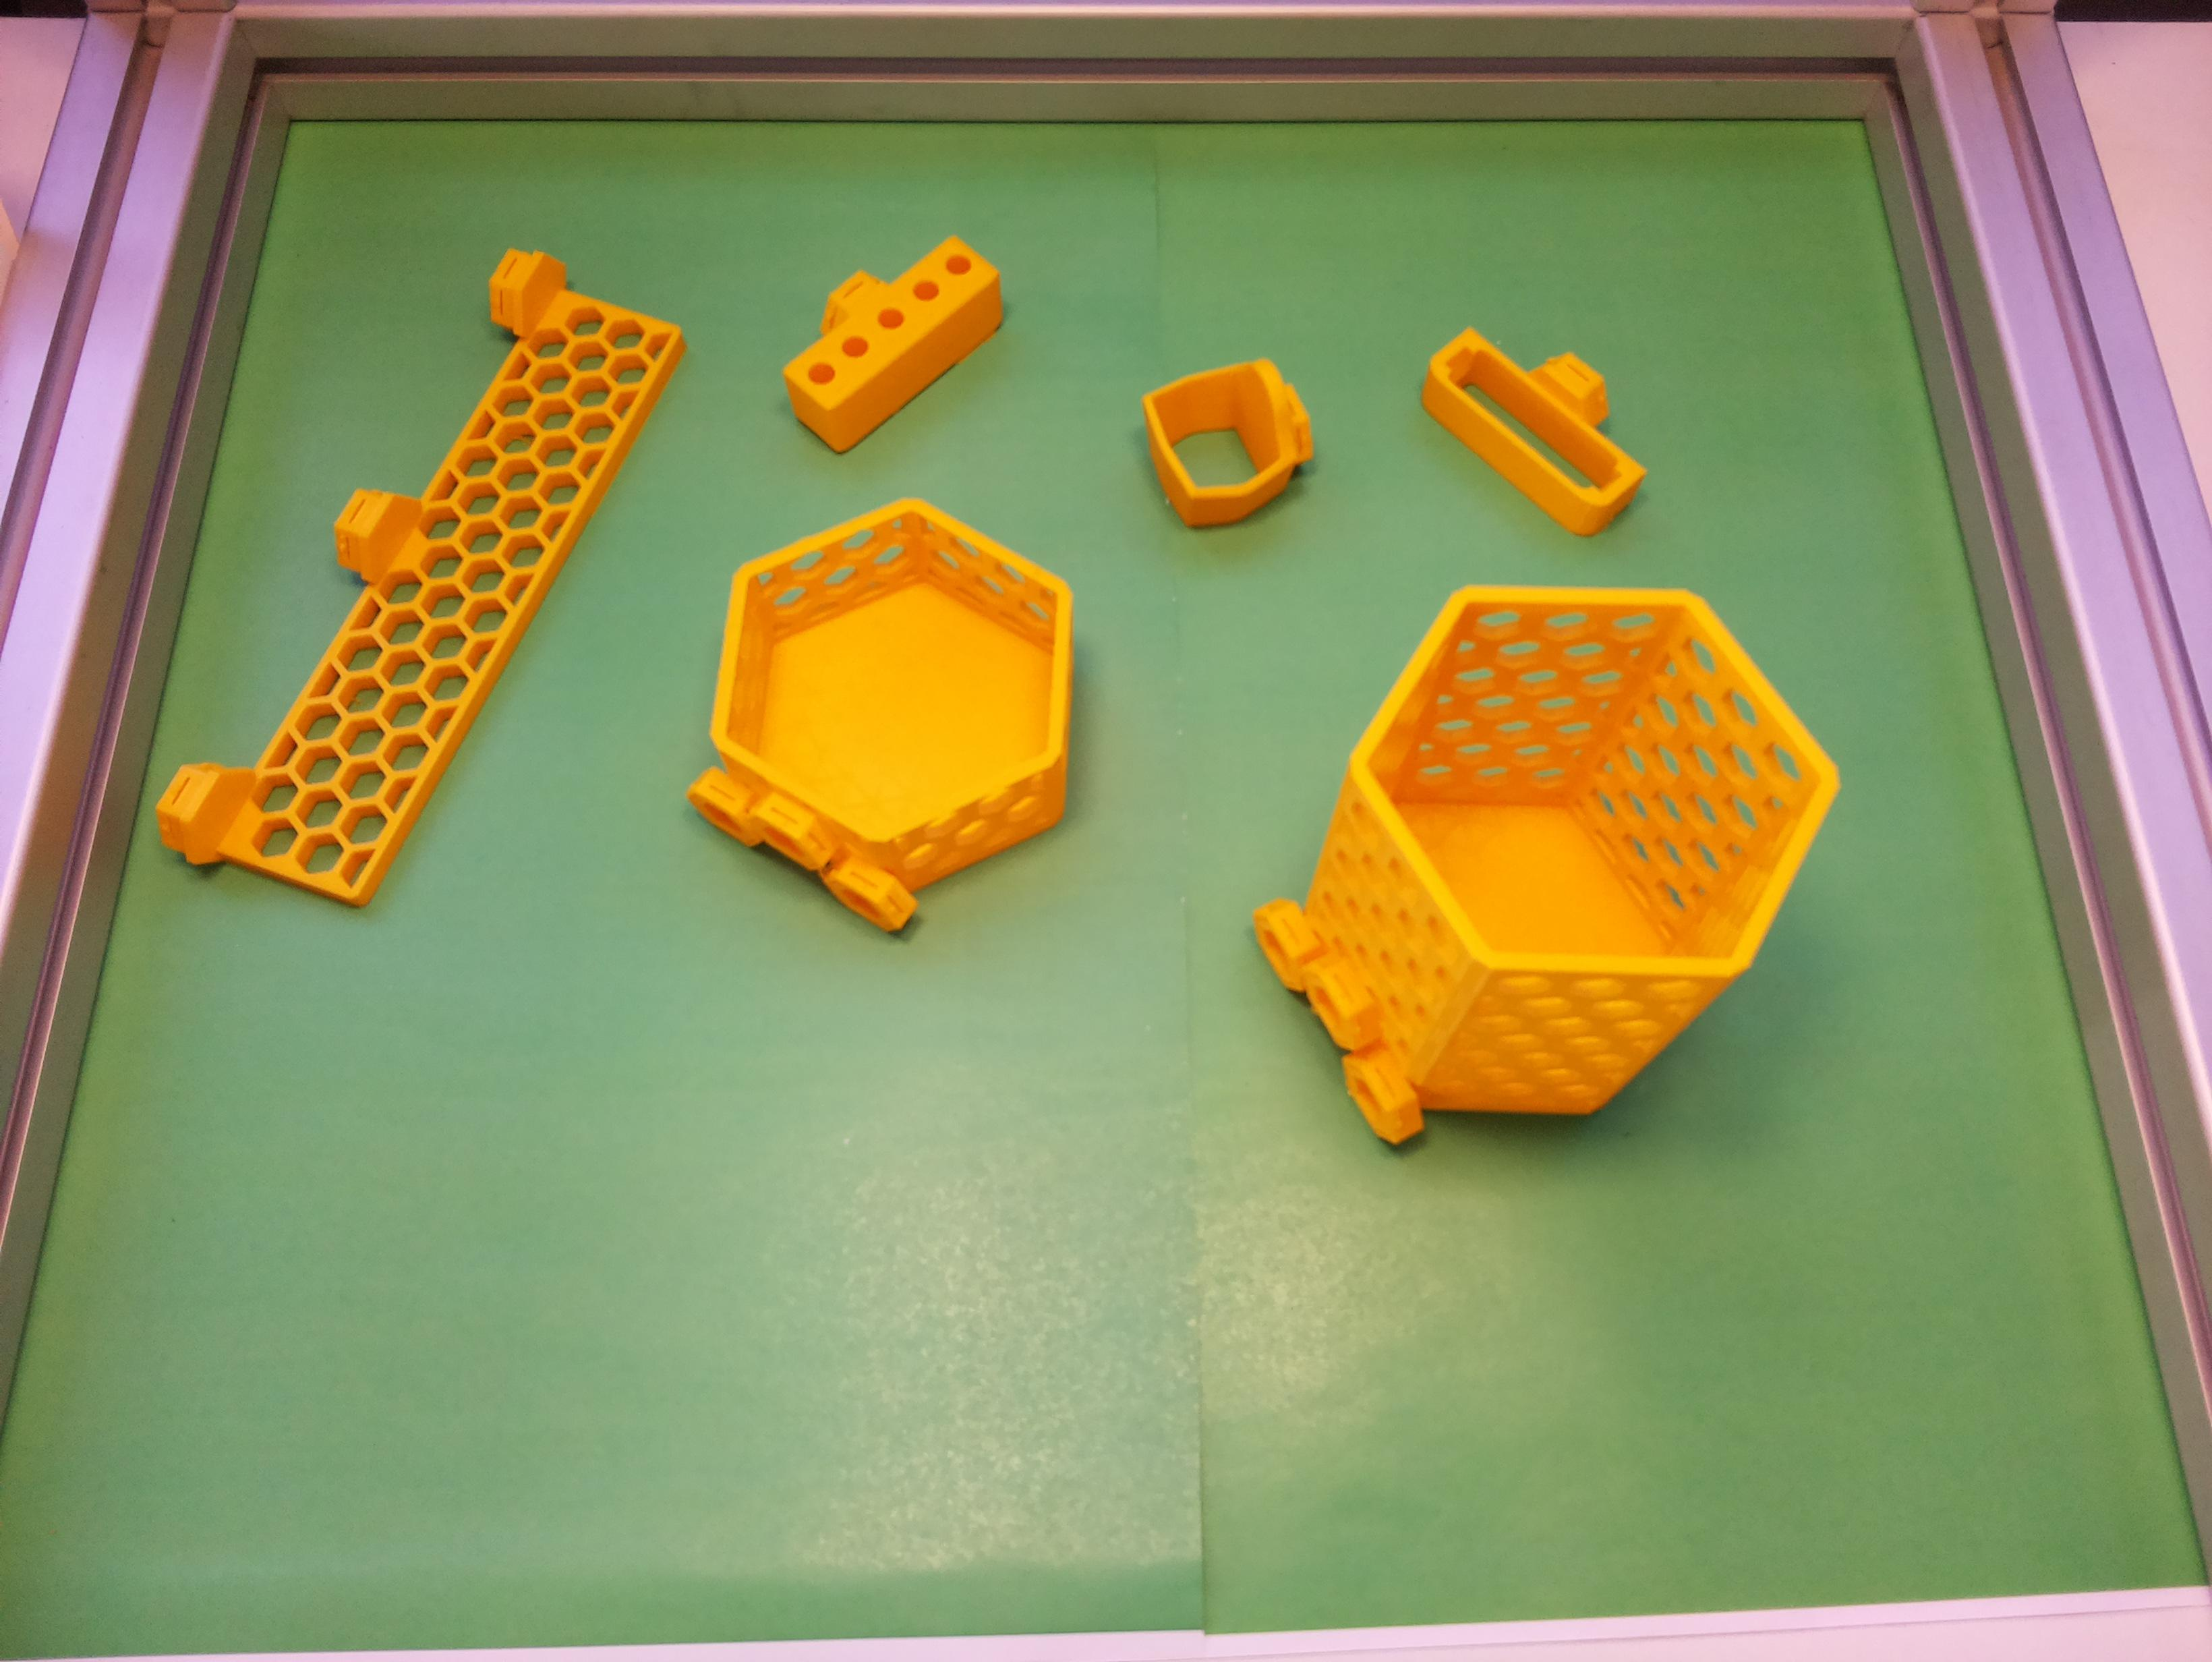bit_holder: (749, 203, 1027, 461)
bottle_holder: (620, 438, 1163, 979)
cup_holder: (1187, 485, 1901, 1255)
cutter_holder: (1398, 288, 1680, 550)
scissor_holder: (1128, 339, 1336, 541)
tool_holder: (141, 223, 700, 950)
